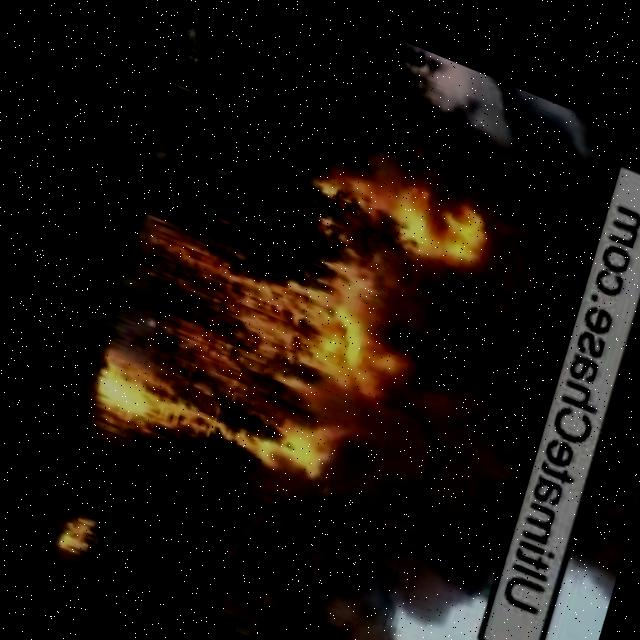Fire: (74, 201, 403, 508), (300, 130, 513, 283), (48, 500, 112, 565)
Smoke: (223, 32, 640, 640), (529, 135, 640, 592)
